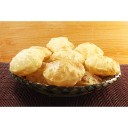poori: (46, 58, 85, 84), (9, 49, 43, 76), (87, 52, 119, 76), (51, 47, 84, 63), (75, 42, 104, 60), (46, 34, 75, 51)
